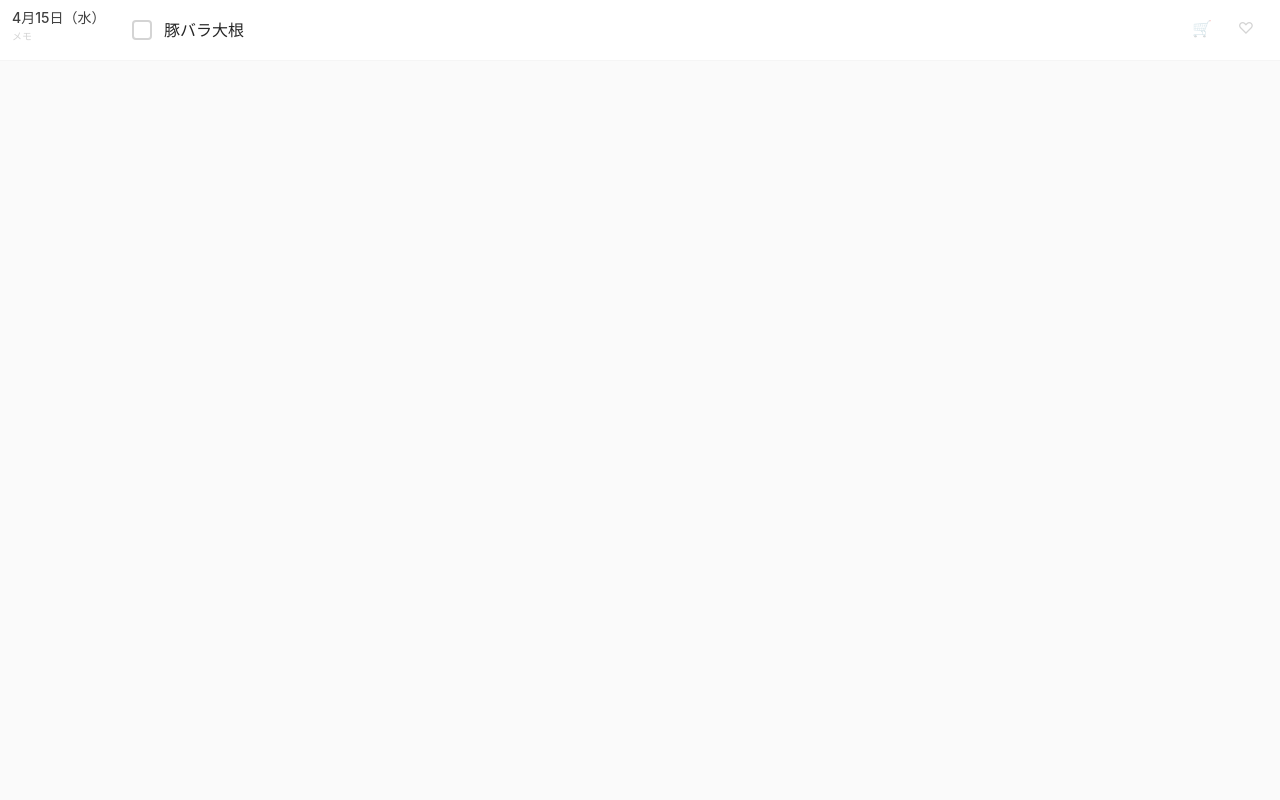
Test: DayRow › 行削除の確認ダイアログ（長押し → 揺れ → ✕ → ダイアログ） › 長押し→✕ タップで確認ダイアログが表示される
Press the mouse on the button "豚バラ大根" at [204, 30], box [164,20,244,40]
Wait 500 ms
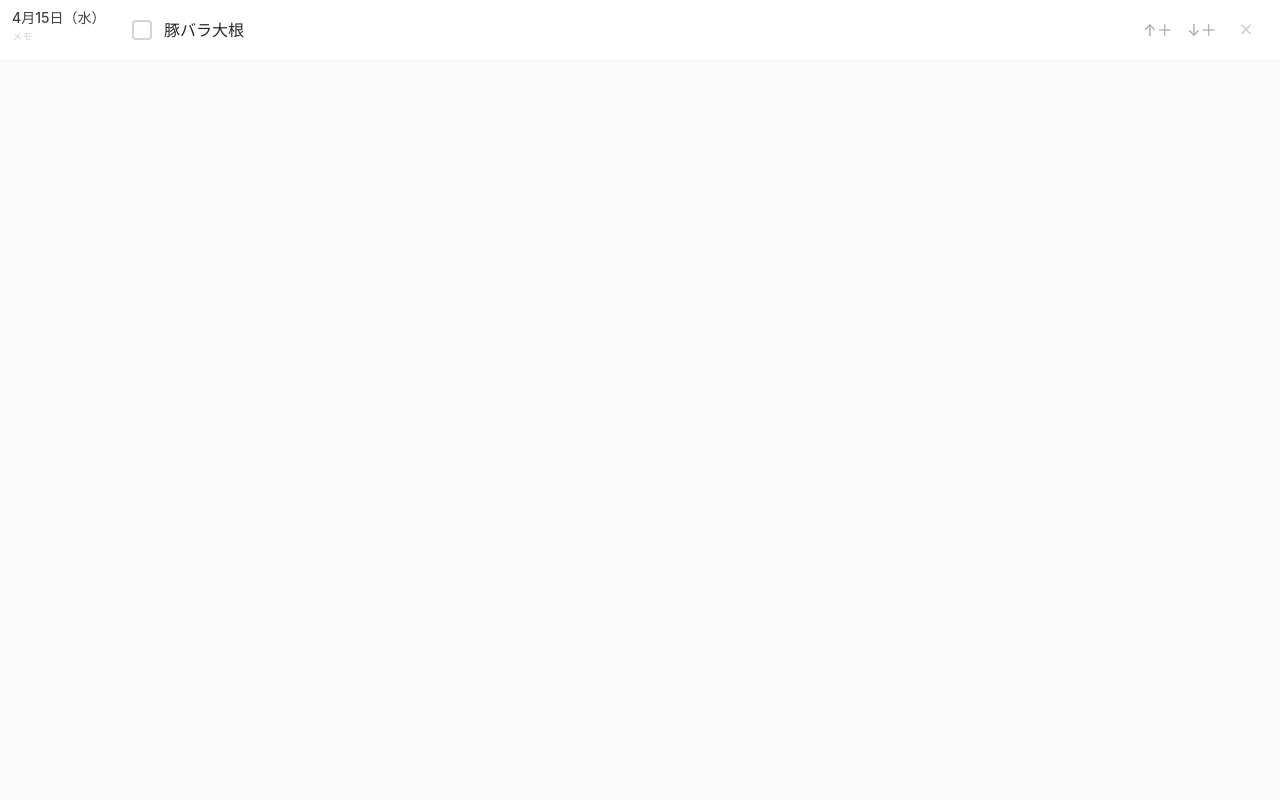
Click the button named "豚バラ大根 を削除" at [1246, 30], box [1224,8,1268,52]
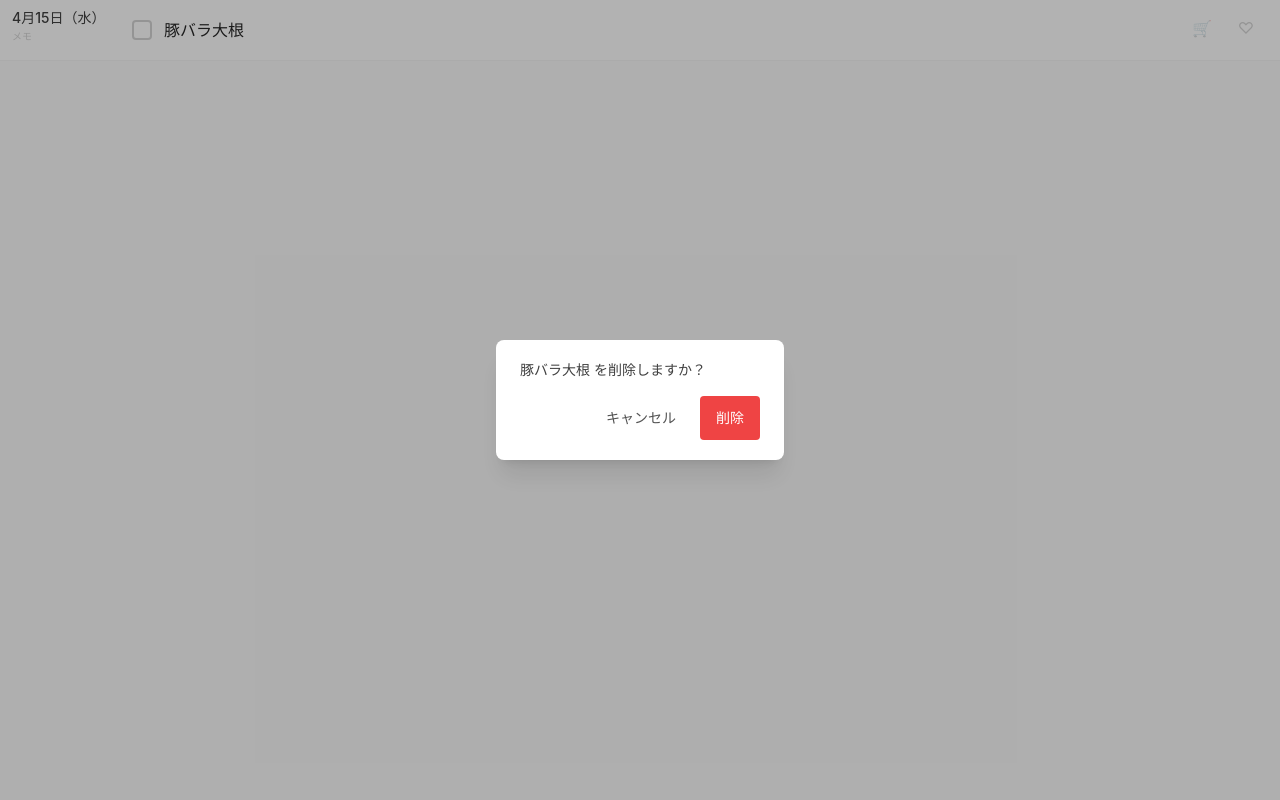
Check: the dialog named "行を削除" is shown, box [496,340,784,460]
Check: the dialog shows "豚バラ大根", box [520,361,590,378]
